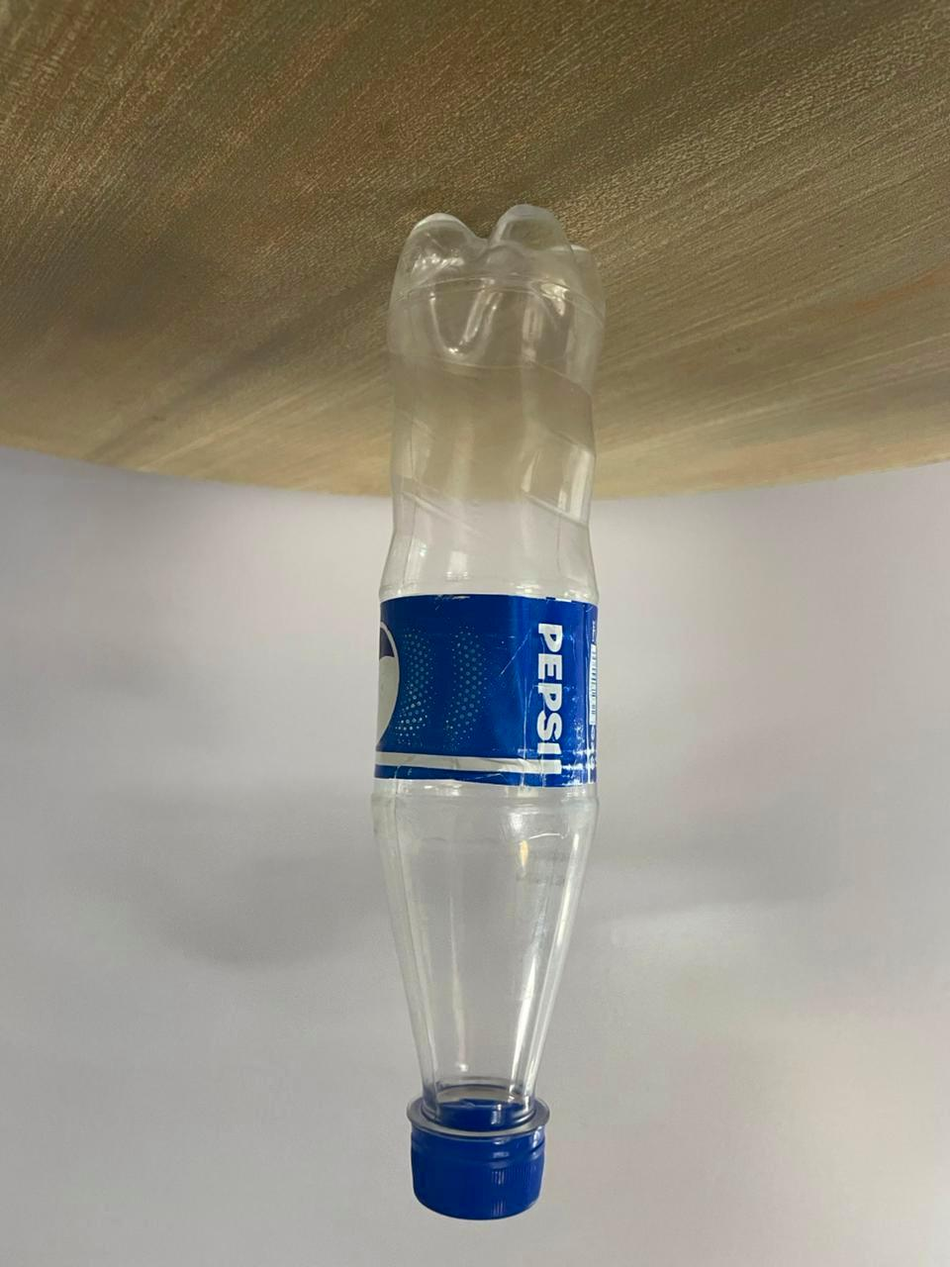Pepsi Bottle: (362, 168, 606, 1242), (366, 190, 604, 1234)
